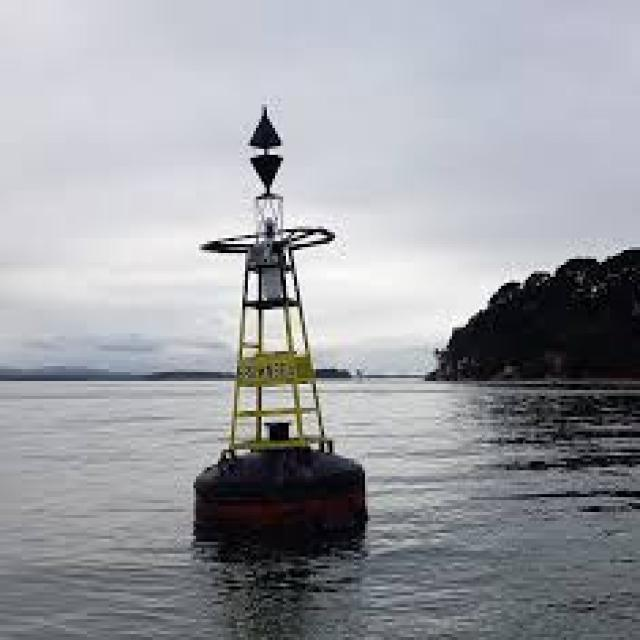buoy: (178, 86, 393, 572)
